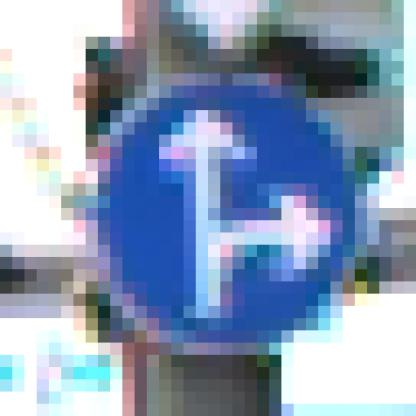Straight or Right: (74, 62, 356, 356)
